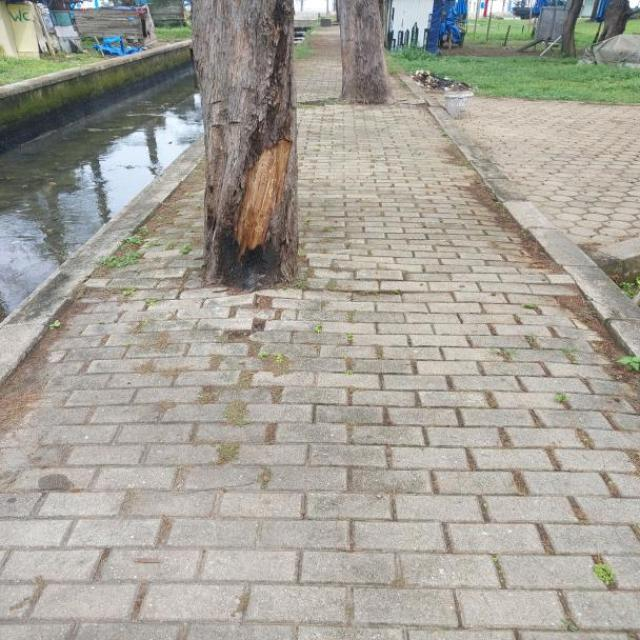tree ahead at: (181, 1, 305, 290), (332, 1, 394, 106)
